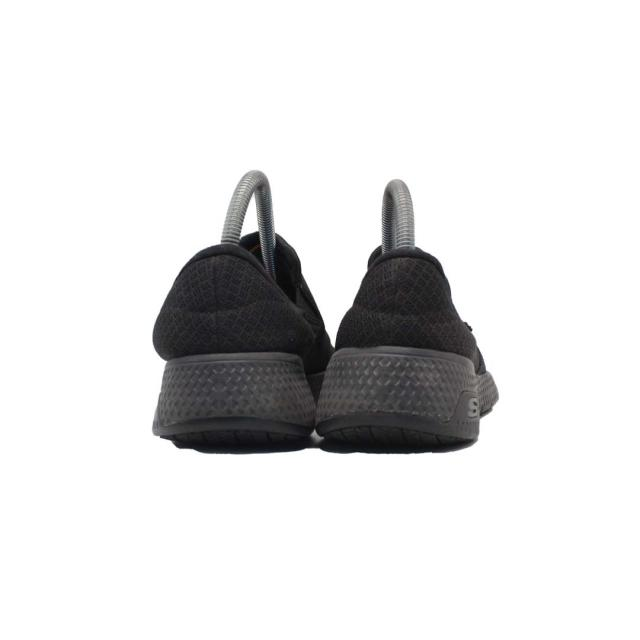heel: (144, 200, 310, 360), (333, 232, 471, 352)
midsole: (318, 356, 498, 451), (162, 364, 309, 444)
